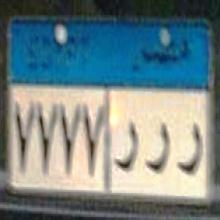7: (14, 98, 34, 176), (60, 99, 80, 175), (83, 102, 103, 177), (37, 99, 57, 174)
raa: (112, 116, 141, 185), (144, 114, 171, 180), (178, 118, 202, 184)
